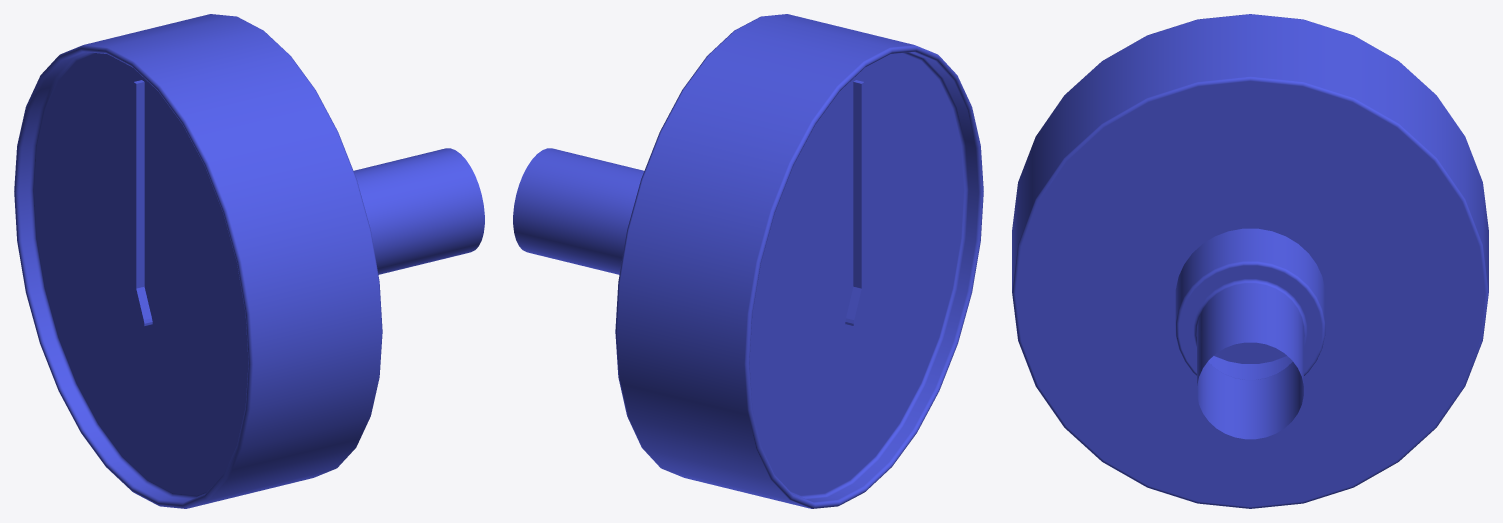
The model's file is Pressure-Behind.fbx.
The picture shows the model from 3 angles, left to right: view 1: azimuth 30°, elevation 25°; view 2: azimuth 150°, elevation 25°; view 3: azimuth 270°, elevation 25°; orthographic projection.
Visible parts, largest first — view 1: Pressure-Behind, Pressure-Behind-Pointer; view 2: Pressure-Behind, Pressure-Behind-Pointer; view 3: Pressure-Behind.
Boxes of the visible parts, x1,y1,x2,y2 form: Pressure-Behind: [14, 14, 484, 508]; Pressure-Behind-Pointer: [125, 80, 152, 326]; Pressure-Behind: [513, 14, 983, 508]; Pressure-Behind-Pointer: [845, 80, 872, 326]; Pressure-Behind: [1012, 14, 1488, 508].
Size of the model in its own units: 10.29 by 12.99 by 12.99.
